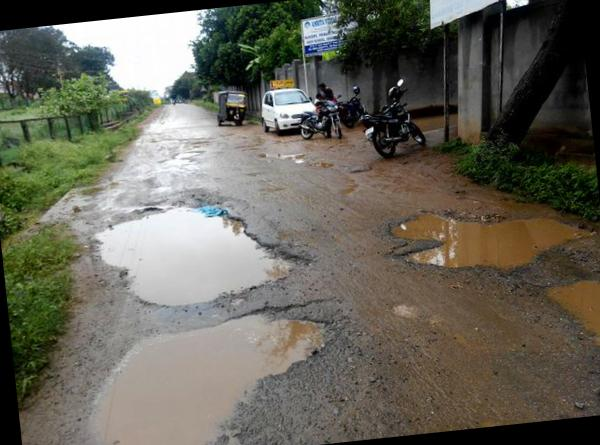pothole: (58, 289, 373, 445), (81, 179, 312, 318), (371, 186, 600, 289), (515, 268, 600, 422)
